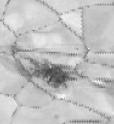good_void: (26, 57, 77, 89)
